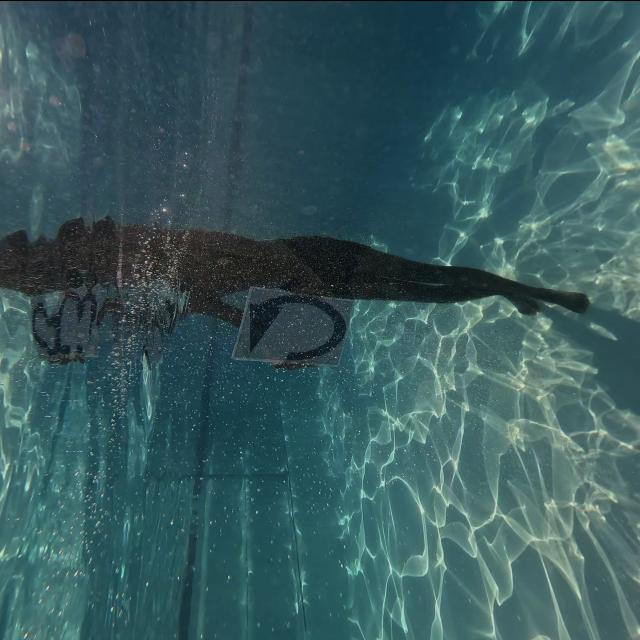blue_side: (230, 294, 346, 368)
